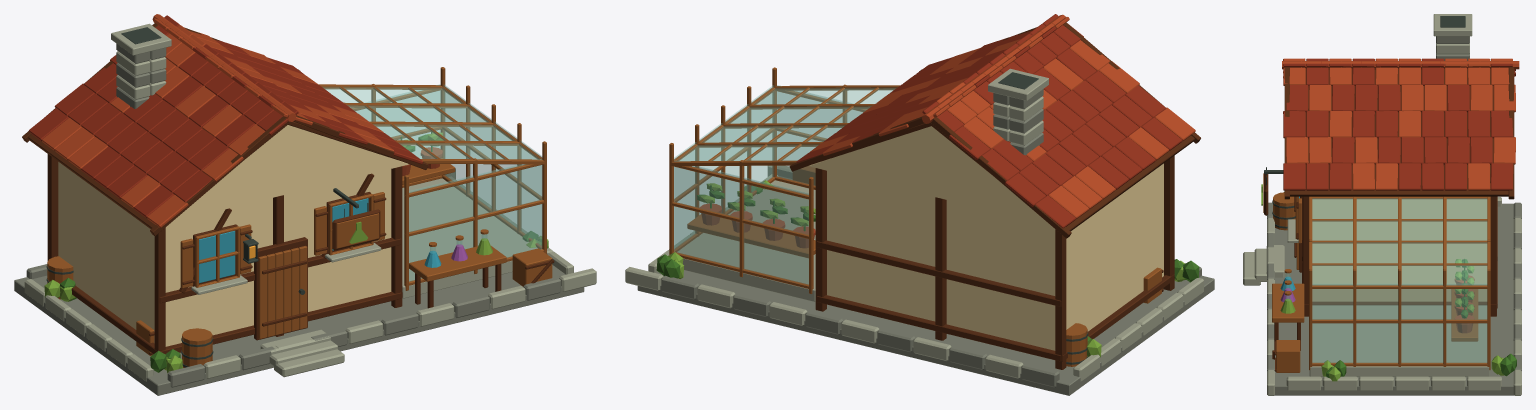
The model's file is Laboratory.glb.
3 views of the same model, side by side, from view 1: azimuth 30°, elevation 25°; view 2: azimuth 150°, elevation 25°; view 3: azimuth 270°, elevation 25° (orthographic). The views are drawn at different scales.
Visible parts, largest first — view 1: S3_Plaster, S3_Roof, S4_Glass, S4_WoodLight, S1_StoneLight, S1_Stone, S3_TileLight, S2_Wood, S3_WoodLight, S3_Wood, S3_StoneLight, S3_Blue (+5 smaller); view 2: S3_Plaster, S3_Roof, S4_Glass, S4_WoodLight, S1_StoneLight, S1_Stone, S2_Wood, S3_TileLight, S3_Wood, S3_StoneLight, S4_Leaf, S3_Stone (+2 smaller); view 3: S4_Glass, S3_Roof, S1_StoneLight, S3_Plaster, S3_TileLight, S4_WoodLight, S1_Stone, S3_Wood, S2_Wood, S3_StoneLight, S4_LeafLight, S4_Leaf (+6 smaller).
Boxes of the visible parts, x1=… form: S3_Plaster: x1=58, y1=125, x2=408, y2=346; S3_Roof: x1=29, y1=15, x2=422, y2=218; S4_Glass: x1=323, y1=84, x2=542, y2=281; S4_WoodLight: x1=47, y1=67, x2=552, y2=367; S1_StoneLight: x1=24, y1=168, x2=596, y2=381; S1_Stone: x1=14, y1=264, x2=584, y2=395; S3_TileLight: x1=42, y1=14, x2=393, y2=227; S2_Wood: x1=47, y1=154, x2=402, y2=354; S3_WoodLight: x1=180, y1=192, x2=384, y2=338; S3_Wood: x1=22, y1=23, x2=428, y2=326; S3_StoneLight: x1=111, y1=23, x2=381, y2=294; S3_Blue: x1=199, y1=198, x2=368, y2=283; S3_Plaster: x1=809, y1=126, x2=1163, y2=350; S3_Roof: x1=796, y1=14, x2=1182, y2=228; S4_Glass: x1=674, y1=85, x2=895, y2=284; S4_WoodLight: x1=669, y1=67, x2=1161, y2=366; S1_StoneLight: x1=625, y1=165, x2=1203, y2=381; S1_Stone: x1=637, y1=176, x2=1214, y2=395; S2_Wood: x1=815, y1=155, x2=1174, y2=369; S3_TileLight: x1=810, y1=14, x2=1195, y2=219; S3_Wood: x1=789, y1=22, x2=1200, y2=238; S3_StoneLight: x1=988, y1=68, x2=1048, y2=145; S4_Leaf: x1=656, y1=185, x2=1199, y2=341; S3_Stone: x1=993, y1=89, x2=1043, y2=155; S4_Glass: x1=1286, y1=198, x2=1487, y2=362; S3_Roof: x1=1283, y1=58, x2=1515, y2=190; S1_StoneLight: x1=1243, y1=197, x2=1521, y2=395; S3_Plaster: x1=1312, y1=199, x2=1487, y2=301; S3_TileLight: x1=1282, y1=58, x2=1519, y2=190; S4_WoodLight: x1=1263, y1=173, x2=1490, y2=372; S1_Stone: x1=1267, y1=202, x2=1521, y2=395; S3_Wood: x1=1284, y1=67, x2=1514, y2=257; S2_Wood: x1=1299, y1=181, x2=1497, y2=316; S3_StoneLight: x1=1287, y1=14, x2=1472, y2=242; S4_LeafLight: x1=1261, y1=184, x2=1504, y2=381; S4_Leaf: x1=1284, y1=191, x2=1516, y2=377.
Bounding box in the file's own units: 6.92 × 3.94 × 4.33.
